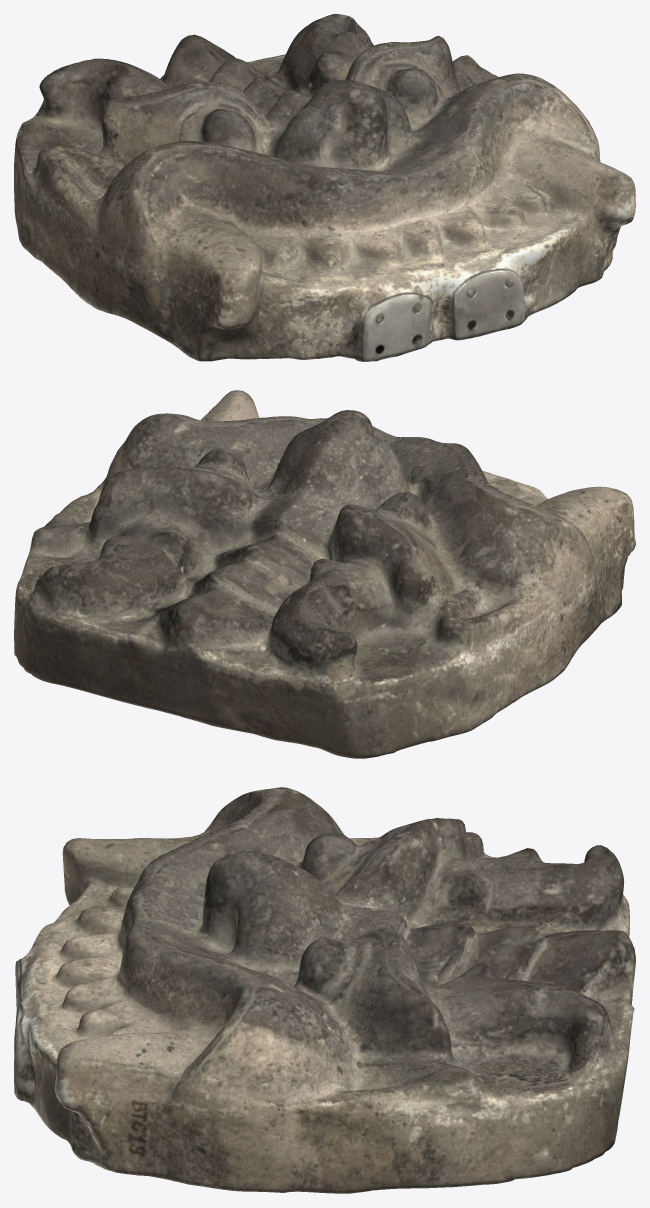
File: 28_makara_final.glb
3 renders of one model, top to bottom at view 1: azimuth 30°, elevation 25°; view 2: azimuth 150°, elevation 25°; view 3: azimuth 270°, elevation 25°, orthographic. The views are drawn at different scales.
Size of the model in its own units: 0.2976 by 0.1122 by 0.297.
Materials: 1 (1 with a texture image).
